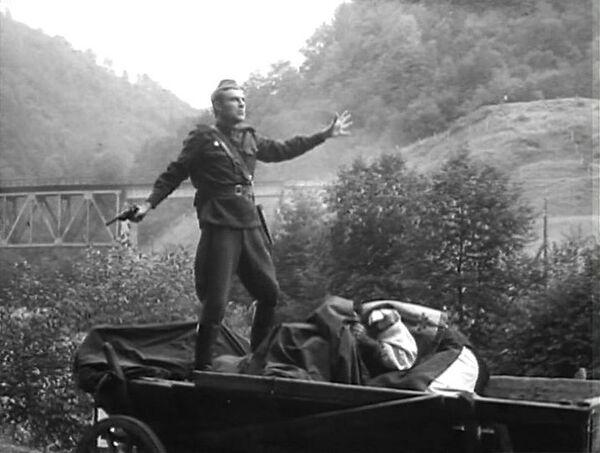Gun: (105, 205, 143, 226)
